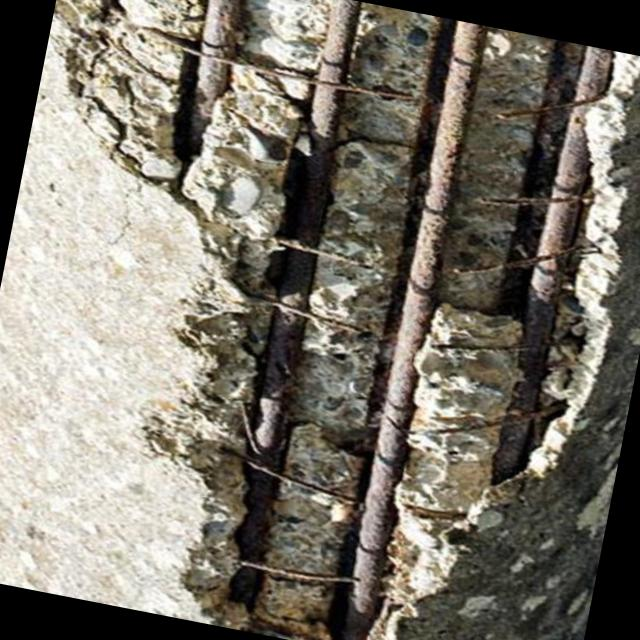spalling: (60, 0, 640, 640)
